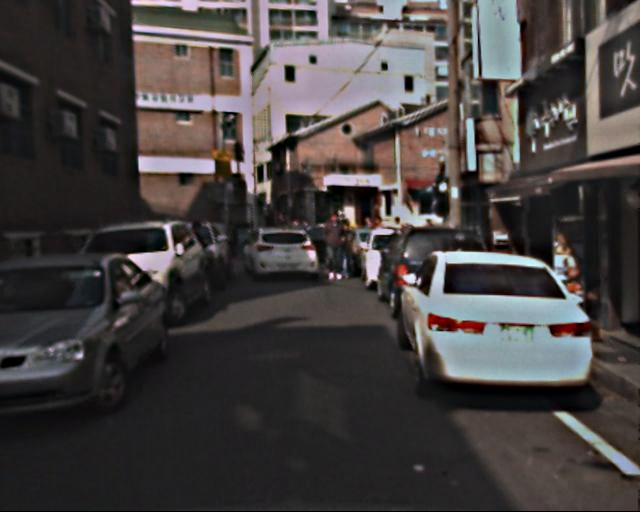person: (319, 214, 347, 283), (337, 217, 362, 277)
